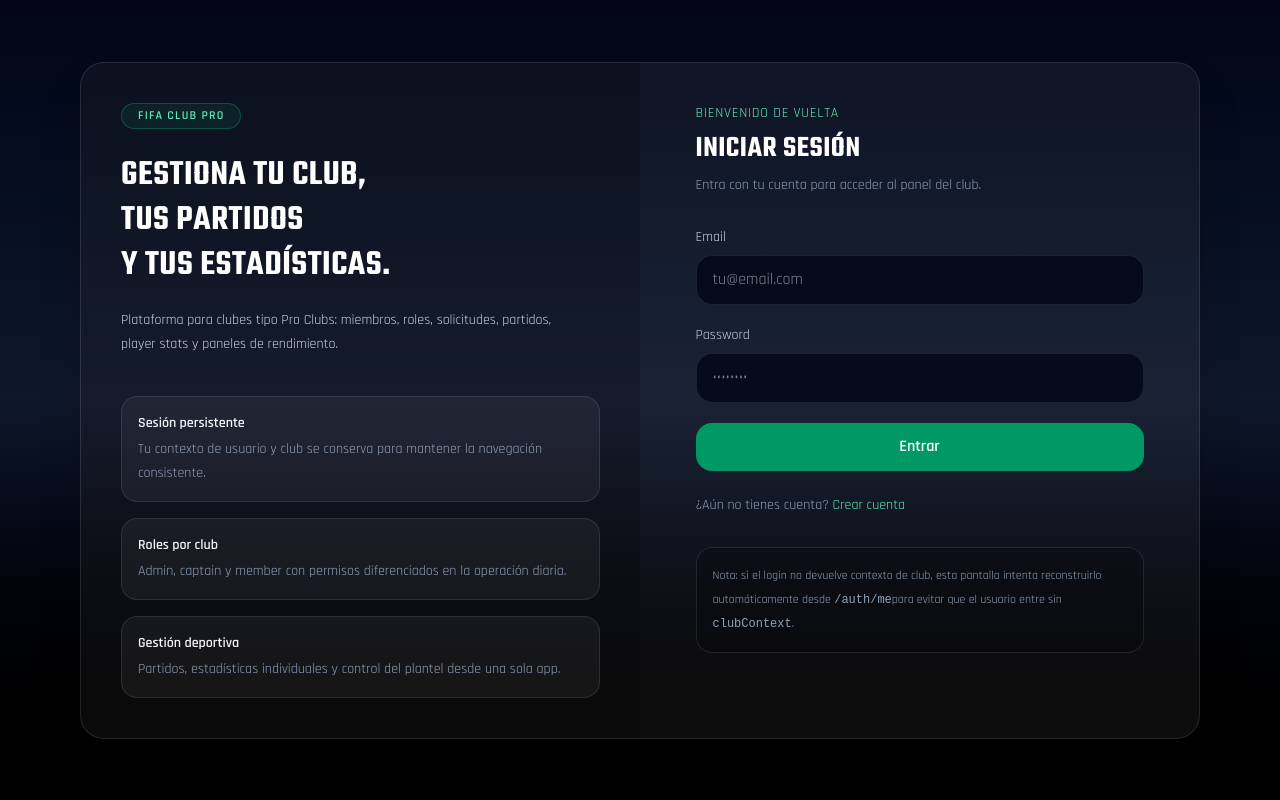
Login › muestra error si faltan campos
Click the button "Entrar".
click(920, 446)  # box [696,422,1144,470]
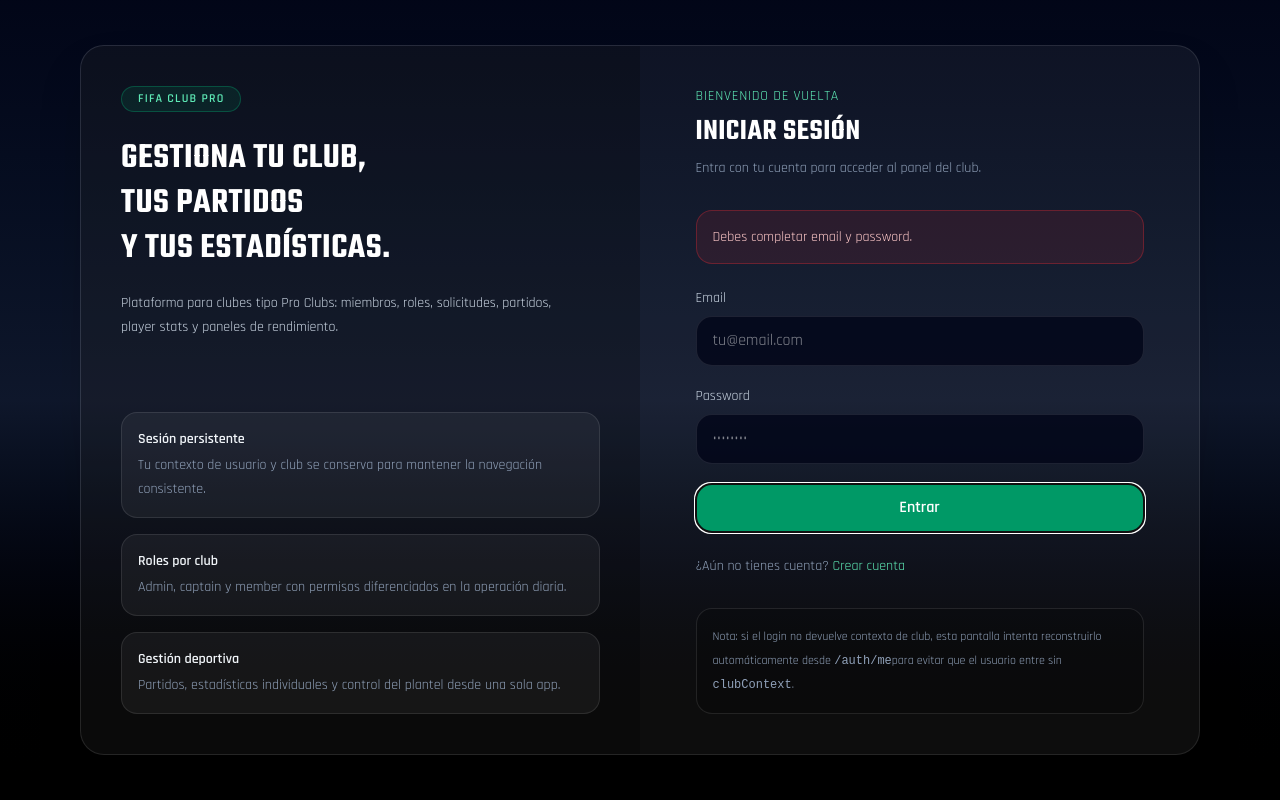
Expected: the text "Debes completar email y password." is shown, [696,210,1144,264]
